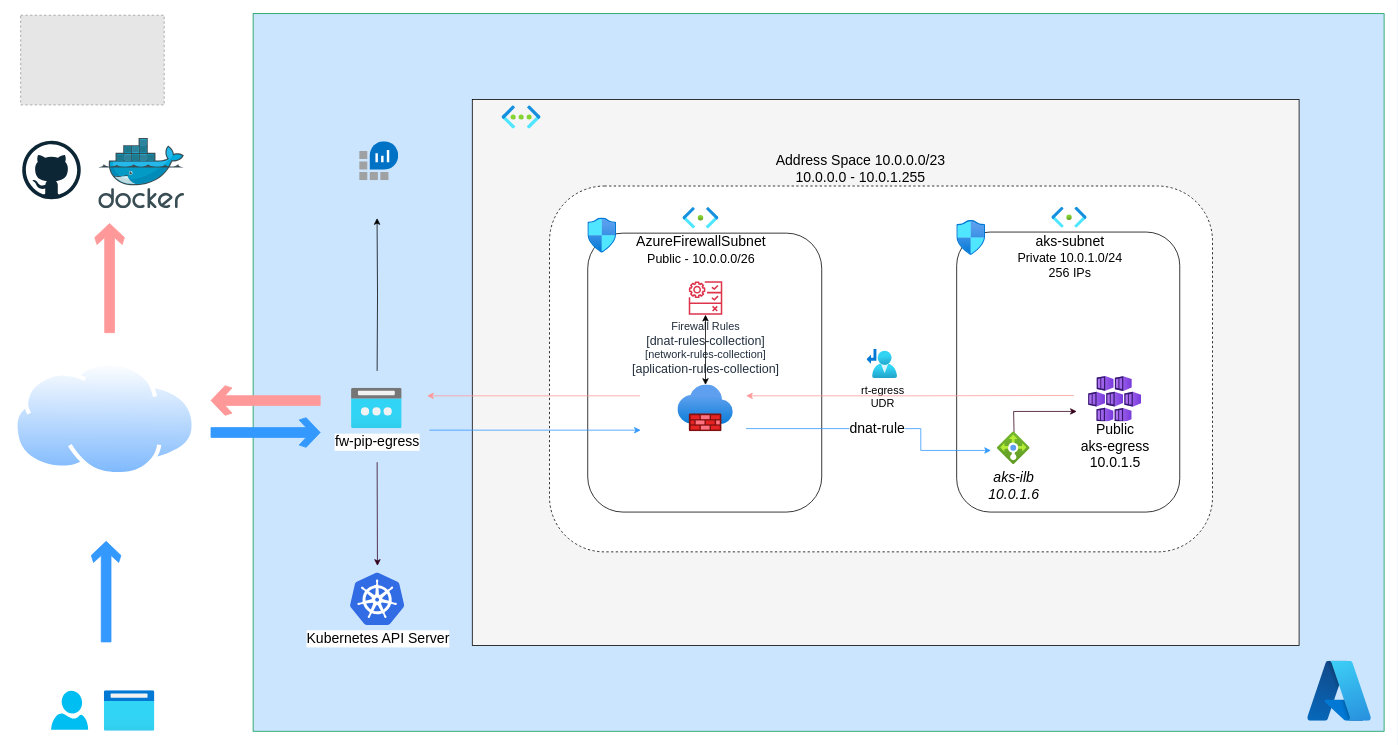
Image size: 1398x745. Some labels were removed from this diagram. Grey dashed boxes stand in for pictures. Here are the shapes that lost their labels. From the top down, the centre of each, then its label:
At pixel 521 117: "vnet-egress".
At pixel 378 160: "log-egress".
At pixel 104 418: "Internet".
At pixel 705 408: "Firewall fw-egress".
